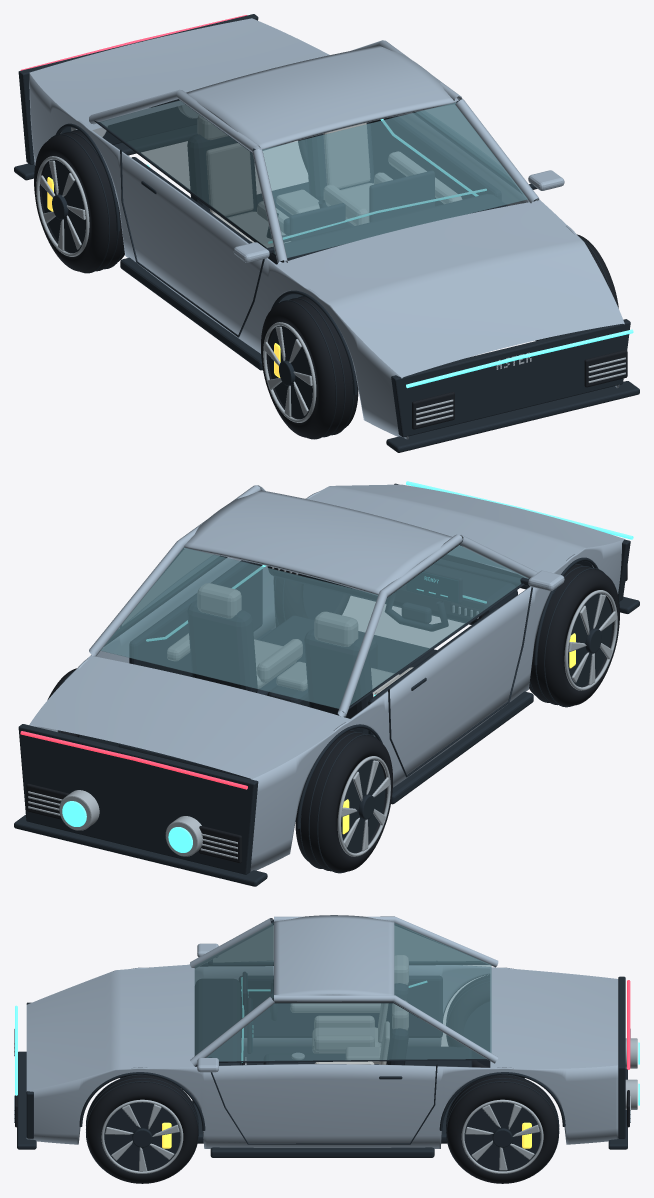
Rendered from AsterGT.fbx.
3 renders of one model, top to bottom at view 1: azimuth 30°, elevation 25°; view 2: azimuth 150°, elevation 25°; view 3: azimuth 270°, elevation 25°, orthographic. The views are drawn at different scales.
Parts seen in each view (by area): view 1: Hood_ContinuousSurface, Windshield, Body_Side_L, Roof_Panel, Rear_Deck, Front_Fascia, Windows_Side_L, Tyre_FL, Tyre_RL, Door_Interior_R, Front_Splitter, Dashboard_Main (+28 smaller); view 2: Rear_Glass, Body_Side_L, Rear_Deck, Rear_Fascia, Roof_Panel, Hood_ContinuousSurface, Windows_Side_L, Tyre_RL, Tyre_FL, Passenger_SeatBack, Door_Interior_R, Driver_SeatBack (+33 smaller); view 3: Body_Side_R, Hood_ContinuousSurface, Rear_Deck, Windows_Side_R, Roof_Panel, Rear_Glass, Windshield, Tyre_FR, Tyre_RR, Door_Interior_L, Dashboard_Main, Body_Side_L (+29 smaller).
Boxes of the visible parts, x1,y1,x2,y2 form: Hood_ContinuousSurface: (275, 200, 624, 377); Windshield: (262, 102, 527, 257); Body_Side_L: (29, 73, 408, 439); Roof_Panel: (186, 45, 458, 150); Rear_Deck: (29, 18, 329, 130); Front_Fascia: (391, 319, 630, 437); Windows_Side_L: (99, 100, 275, 254); Tyre_FL: (261, 297, 358, 438); Tyre_RL: (34, 130, 124, 272); Door_Interior_R: (370, 115, 501, 205); Front_Splitter: (386, 381, 639, 452); Dashboard_Main: (268, 194, 507, 264); Rear_Glass: (100, 547, 377, 708); Body_Side_L: (250, 539, 624, 871); Rear_Deck: (29, 655, 351, 778); Rear_Fascia: (18, 724, 258, 874); Roof_Panel: (184, 490, 452, 595); Hood_ContinuousSurface: (306, 484, 623, 572); Windows_Side_L: (350, 545, 528, 705); Tyre_RL: (295, 730, 392, 872); Tyre_FL: (529, 564, 619, 706); Passenger_SeatBack: (187, 600, 257, 692); Door_Interior_R: (129, 560, 262, 676); Driver_SeatBack: (304, 629, 372, 729); Body_Side_R: (26, 1064, 618, 1148); Hood_ContinuousSurface: (26, 964, 194, 1090); Rear_Deck: (490, 967, 618, 1068); Windows_Side_R: (206, 1003, 485, 1061); Roof_Panel: (274, 915, 394, 995); Rear_Glass: (394, 923, 491, 1052); Windshield: (194, 922, 273, 1055); Tyre_FR: (86, 1075, 198, 1183); Tyre_RR: (446, 1075, 558, 1183); Door_Interior_L: (239, 975, 442, 1037); Dashboard_Main: (195, 979, 240, 1066); Body_Side_L: (113, 961, 514, 1046).
Size of the model in its own units: 241 by 162 by 514.
